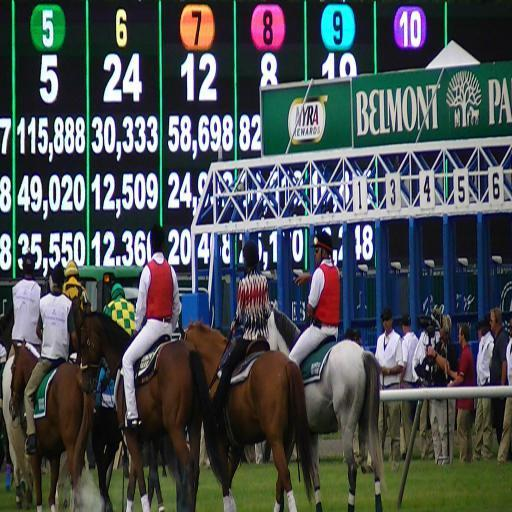horse: (76, 302, 216, 512), (178, 320, 318, 512), (265, 304, 383, 512), (7, 338, 94, 512), (0, 354, 30, 512)
